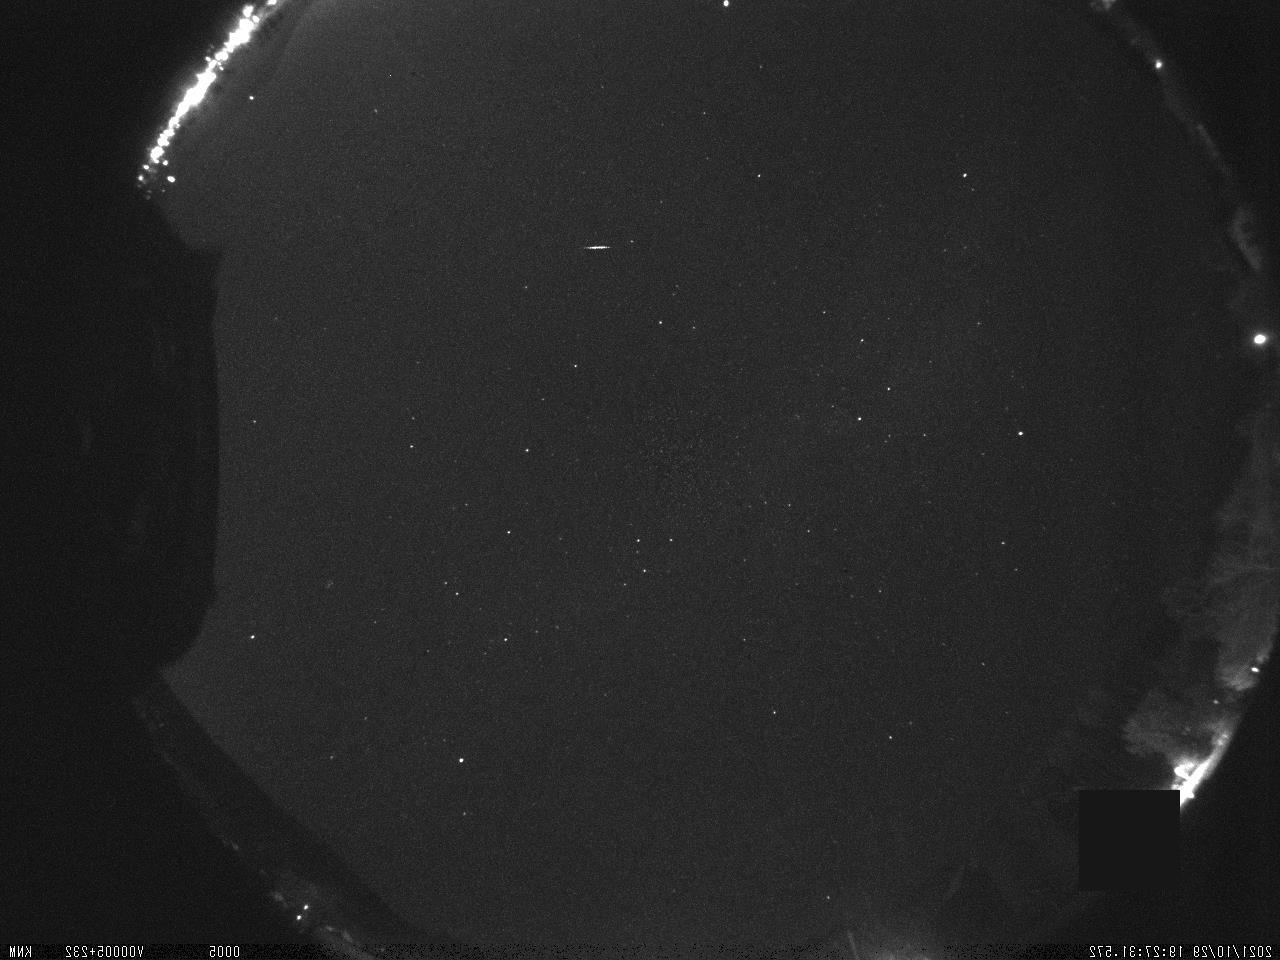meteor: (584, 226, 618, 261)
